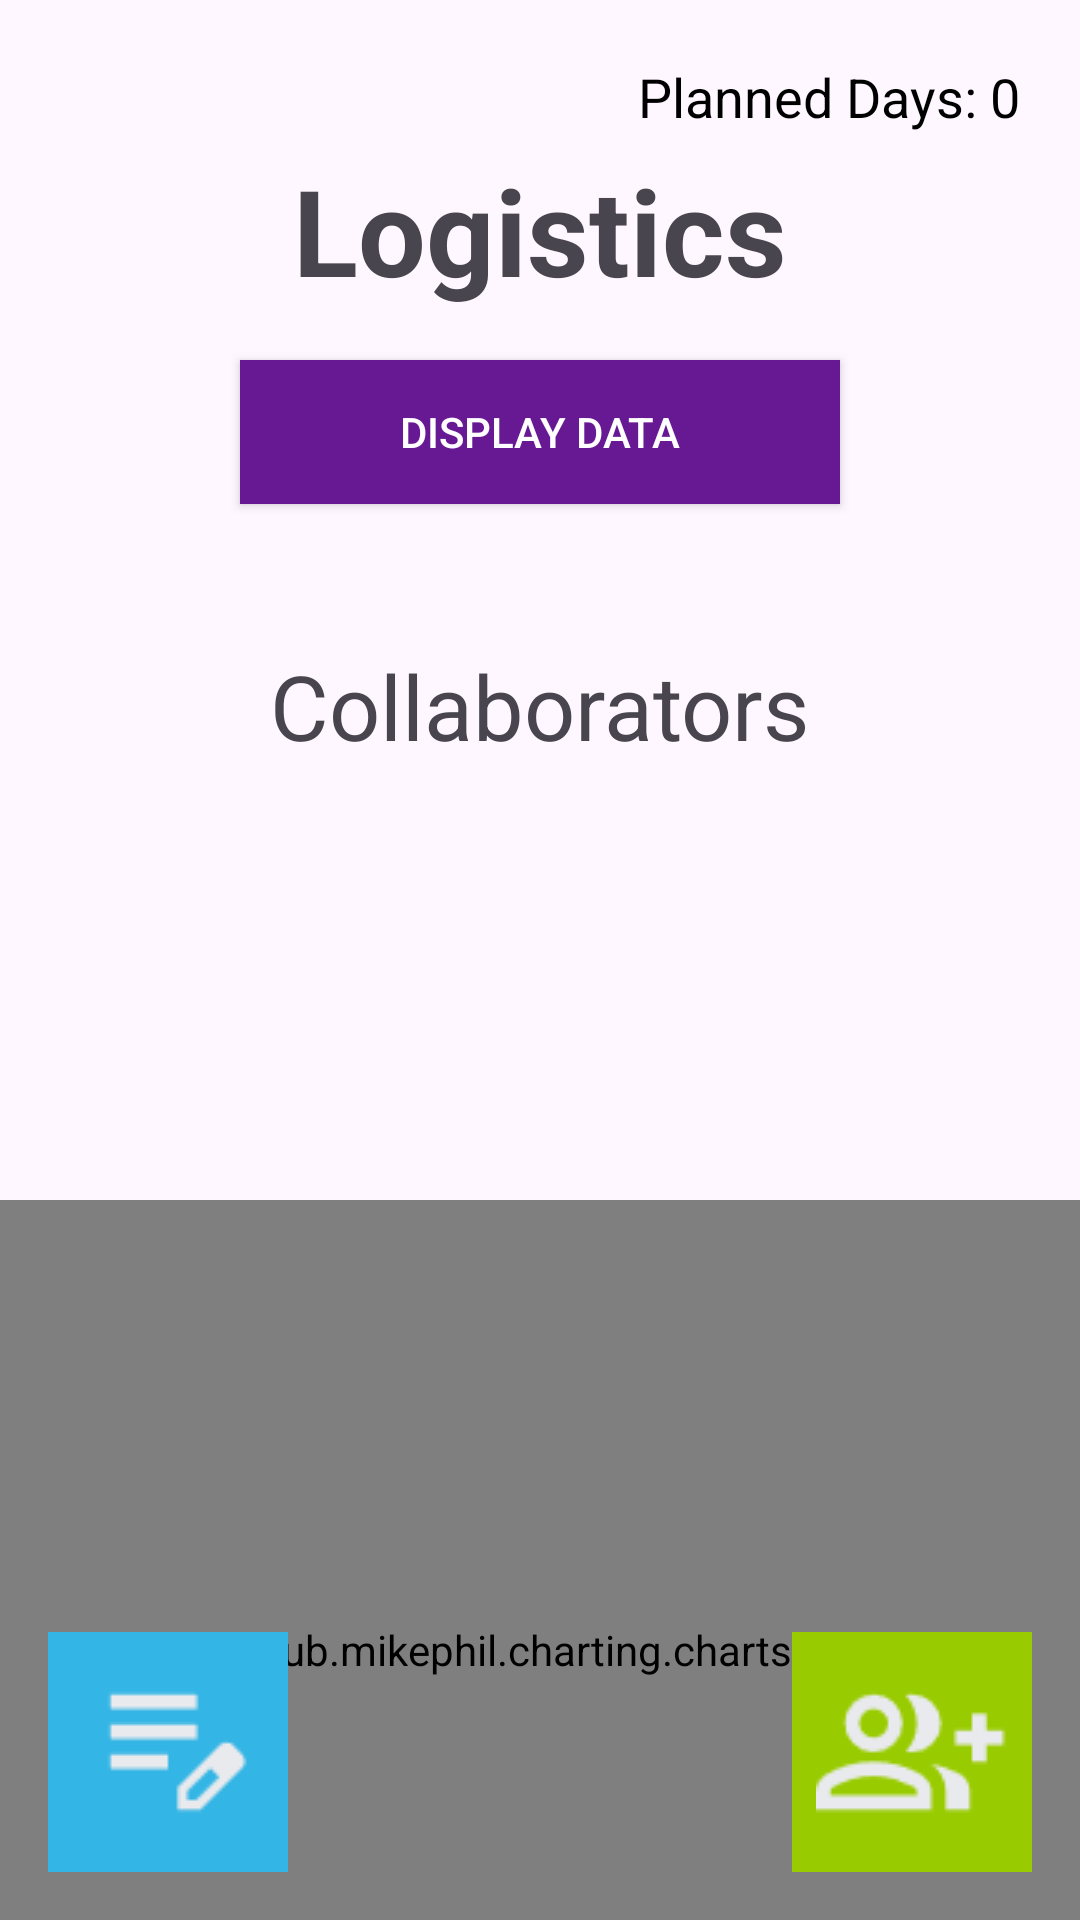

Icons on this 1080 x 1920 Android screen, each with its box as (x1, y1, x2, y2):
Add Collaborator: (792, 1632, 1032, 1872)
Add Note: (48, 1632, 288, 1872)
